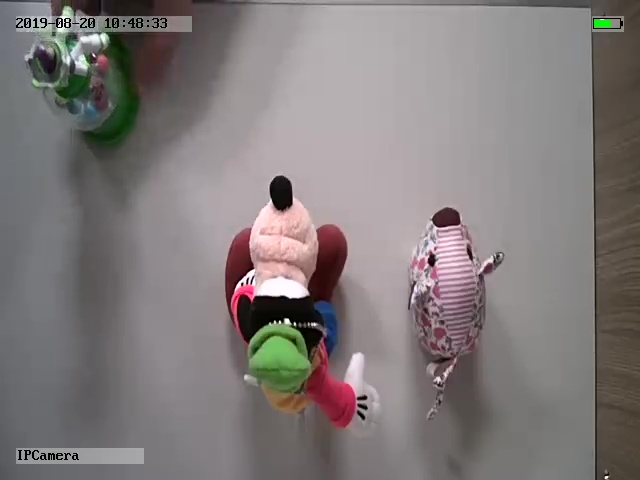buzz: (24, 6, 138, 144)
goofy: (223, 173, 382, 438)
pig: (405, 203, 505, 423)
